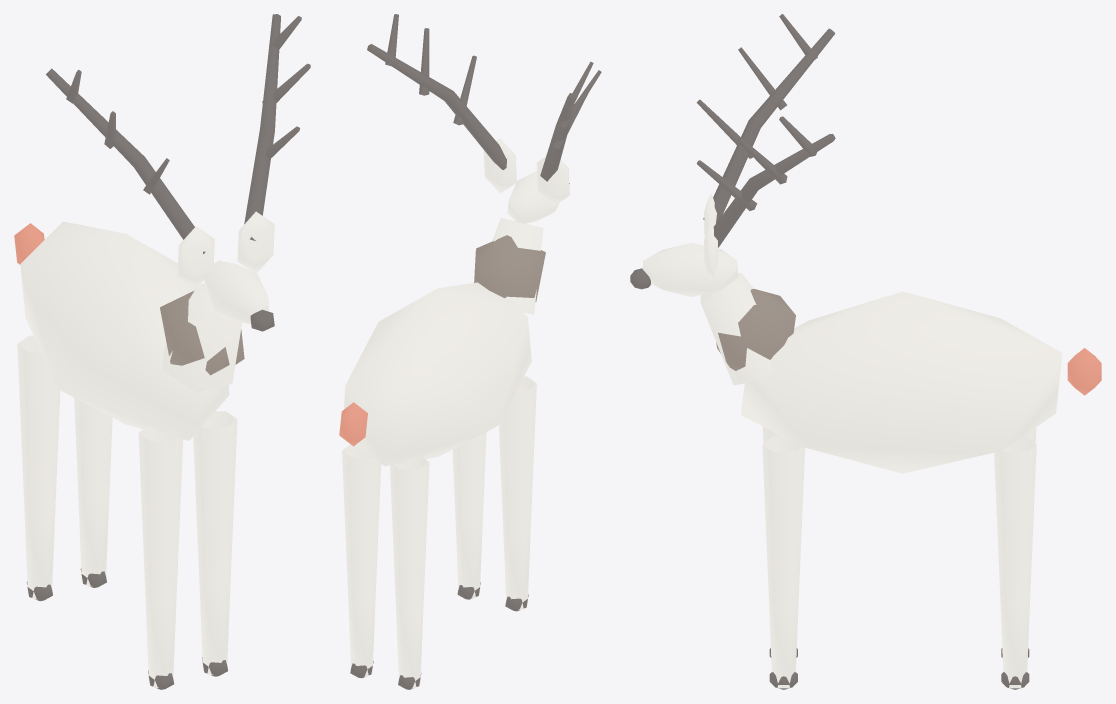
Rendered from Blender_Elk_1.glb.
3 views of the same model, side by side, from view 1: azimuth 30°, elevation 25°; view 2: azimuth 150°, elevation 25°; view 3: azimuth 270°, elevation 25° (orthographic). The views are drawn at different scales.
Visible parts, largest first — view 1: Blender_Elk_1; view 2: Blender_Elk_1; view 3: Blender_Elk_1.
Part boxes in pixels (bbox=[...]): Blender_Elk_1: bbox=[14, 14, 310, 689]; Blender_Elk_1: bbox=[339, 14, 601, 689]; Blender_Elk_1: bbox=[630, 14, 1101, 689].
Bounding box in the file's own units: 1.17 × 3.06 × 2.14.
